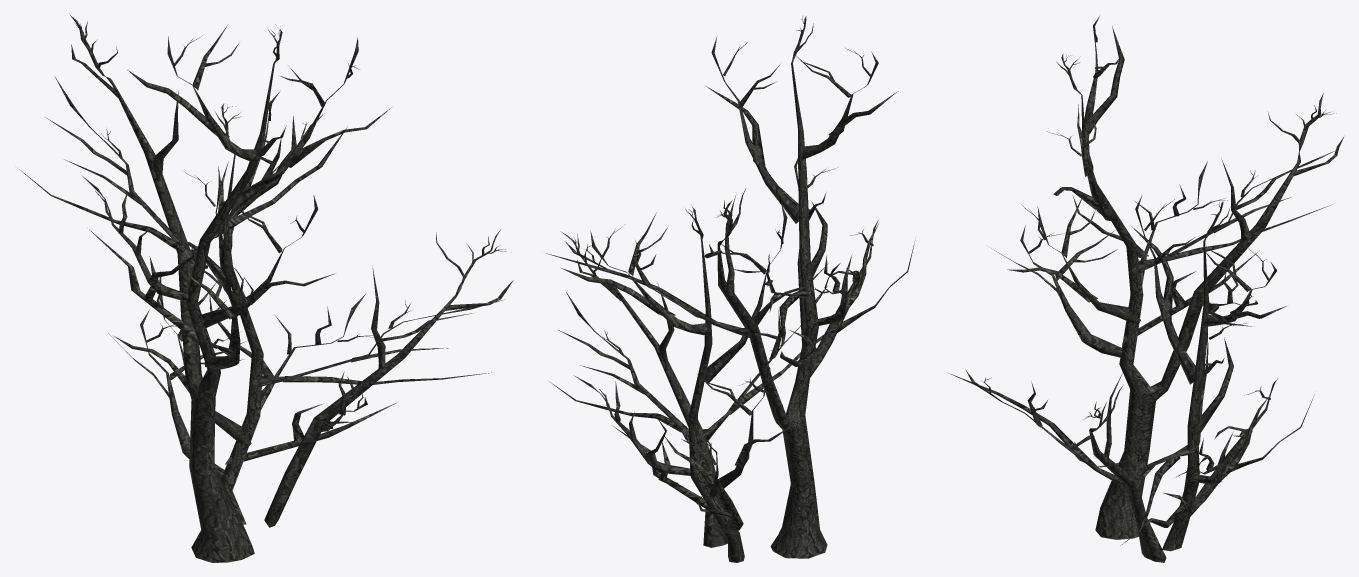
The model's file is wood_01.FBX.
3 renders of one model, left to right at view 1: azimuth 30°, elevation 25°; view 2: azimuth 150°, elevation 25°; view 3: azimuth 270°, elevation 25°, orthographic. The views are drawn at different scales.
Parts seen in each view (by area): view 1: wood_01; view 2: wood_01; view 3: wood_01.
Part boxes in pixels (<box>): wood_01: <box>19,14,513,562</box>; wood_01: <box>546,16,915,562</box>; wood_01: <box>948,16,1343,562</box>.
Bounding box in the file's own units: 90.15 × 125 × 92.61.
